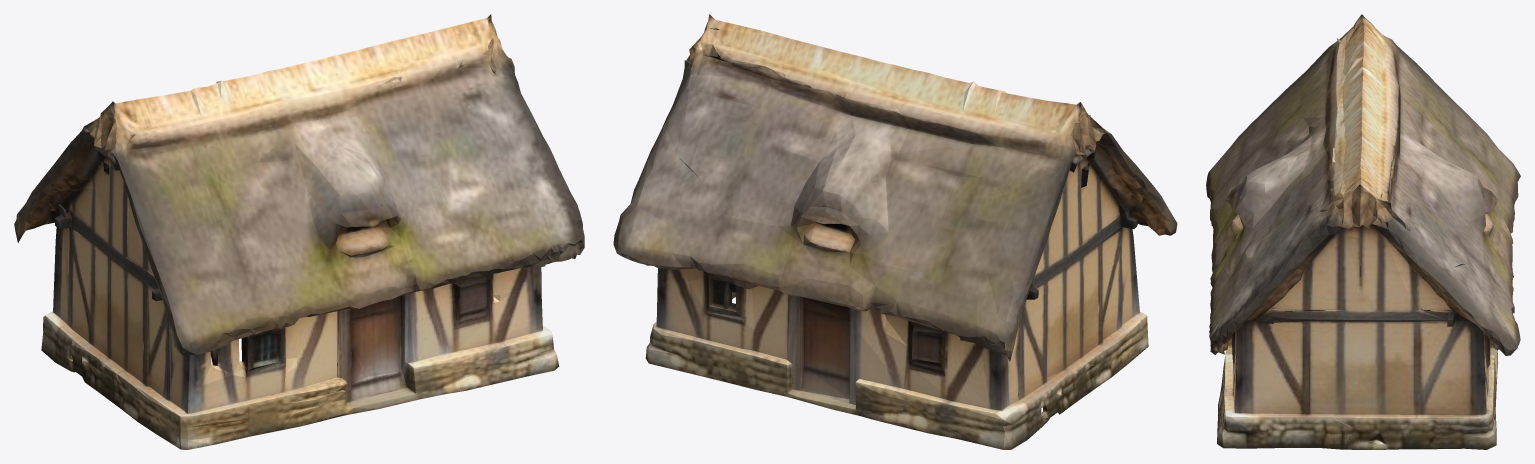
Rendered from ga3_house_lod0.glb.
3 views of the same model, side by side, from view 1: azimuth 30°, elevation 25°; view 2: azimuth 150°, elevation 25°; view 3: azimuth 270°, elevation 25° (orthographic). The views are drawn at different scales.
Parts seen in each view (by area): view 1: ga3_house_lod0; view 2: ga3_house_lod0; view 3: ga3_house_lod0.
Boxes of the visible parts, <box> form: ga3_house_lod0: <box>14,14,584,449</box>; ga3_house_lod0: <box>613,14,1177,449</box>; ga3_house_lod0: <box>1206,14,1520,449</box>.
Size of the model in its own units: 7.97 by 5.61 by 5.86.
Materials: 1 (1 with a texture image).
